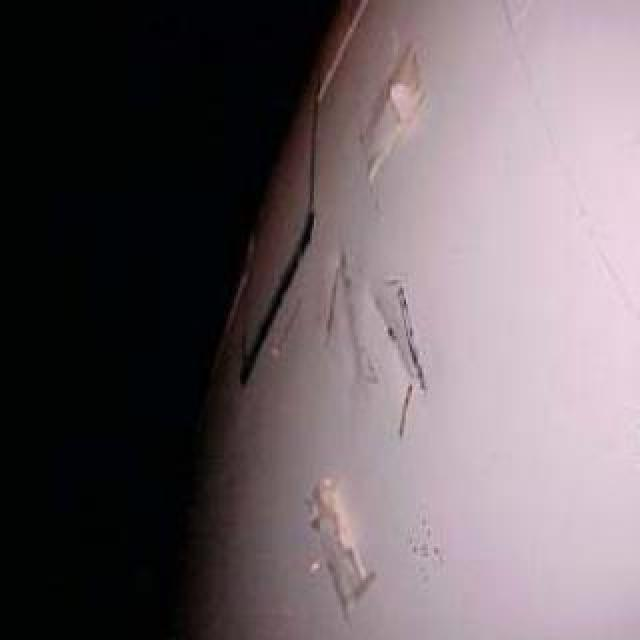dent: (324, 240, 362, 392), (373, 287, 419, 379)
